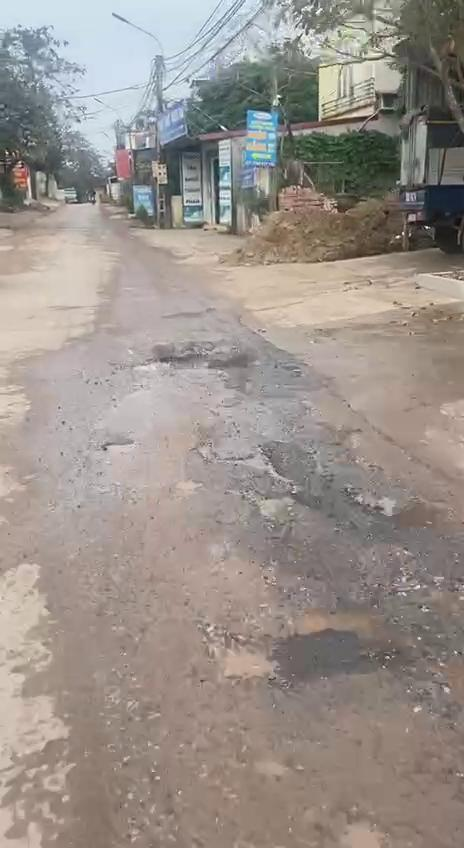pothole: (212, 592, 464, 717), (345, 480, 464, 608), (217, 439, 323, 551), (138, 340, 263, 399), (94, 436, 139, 460)
